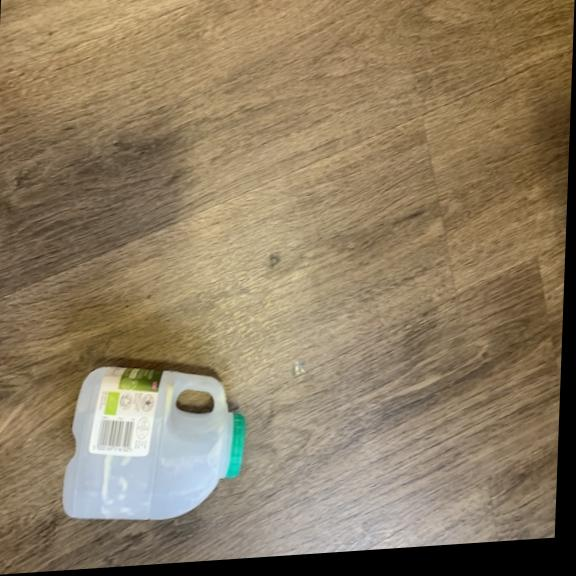Plastik: (56, 352, 252, 531)
